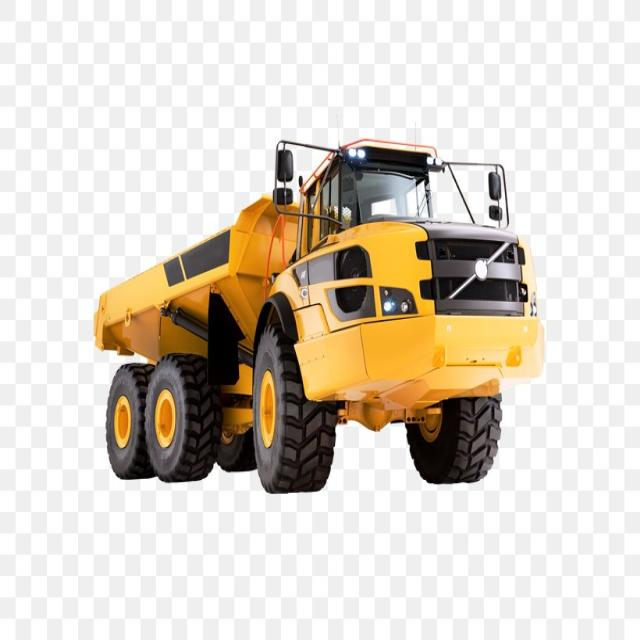dump_truck: (89, 127, 546, 502)
